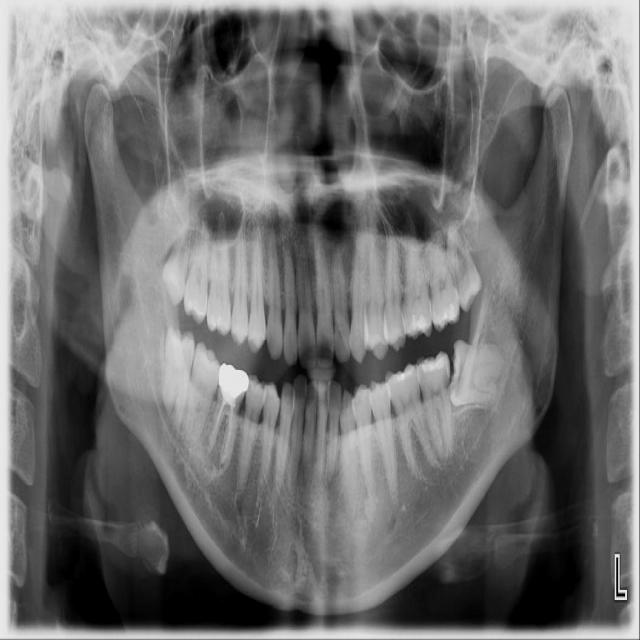Crown: (218, 363, 249, 406)
Filling: (434, 302, 459, 329), (419, 353, 446, 373), (407, 313, 431, 334)
Root Canal Treatment: (221, 414, 233, 464), (212, 400, 221, 446)
impacted tooth: (447, 342, 507, 406), (162, 329, 194, 430)
